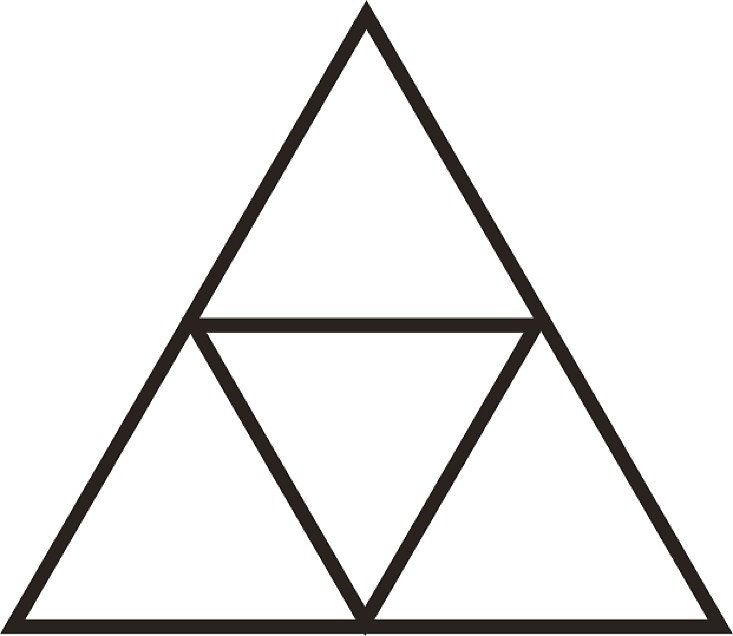triangulo: (186, 3, 550, 317), (363, 333, 733, 635), (1, 326, 358, 636), (190, 325, 540, 622)
